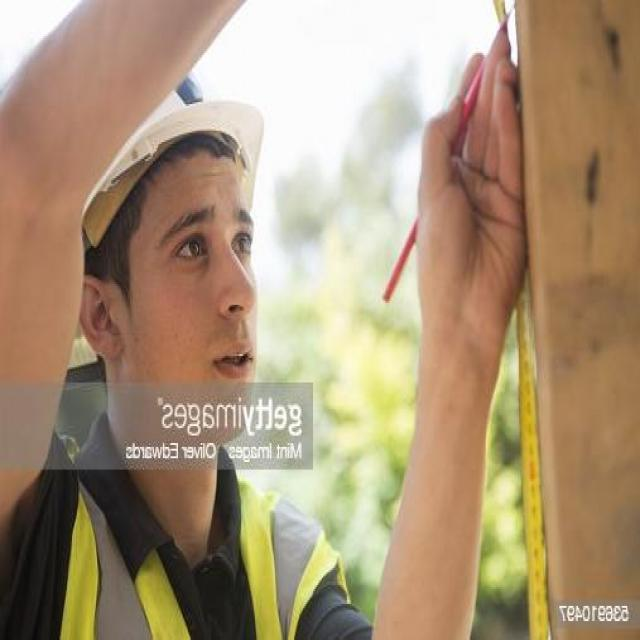reflective_jacket: (49, 454, 335, 639)
safety_helmet: (71, 69, 271, 259)
